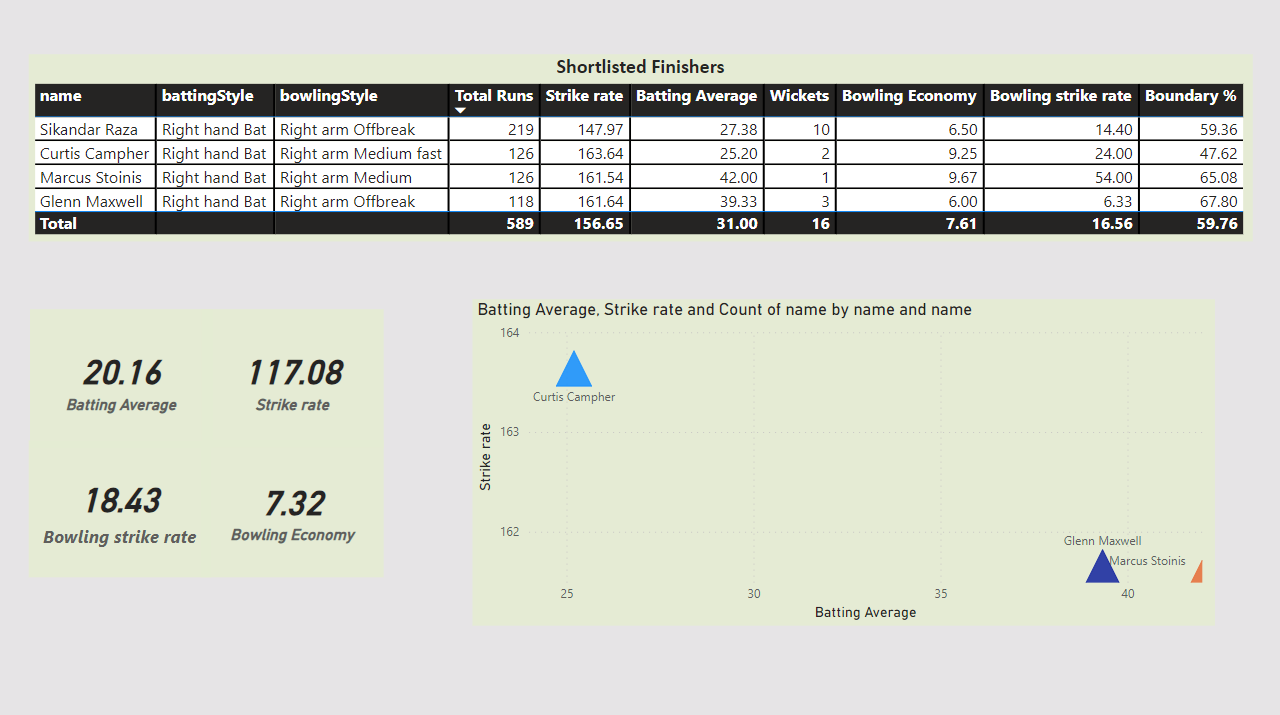

Layout of this report page (visuals, bound fields, positions):
{"tool":"powerbi","page":{"name":"Finisher","canvas":[1280,720],"ordinal":2},"visuals":[{"type":"tableEx","title":"Shortlisted Finishers","fields":{"Values":["a_dim_players_summary.name","a_dim_players_summary.battingStyle","a_dim_players_summary.bowlingStyle","Key_Measure.Total Runs","Key_Measure.Strike rate","Key_Measure.Batting Average","Key_Measure.Wickets","Key_Measure.Bowling Economy","Key_Measure.Bowling strike rate","Key_Measure.Boundary %"]},"box":[29.3,56.2,1223.6,187],"z":0},{"type":"card","fields":{"Values":["Key_Measure.Batting Average"]},"box":[30.6,311.7,182.1,138.1],"z":1000},{"type":"card","fields":{"Values":["Key_Measure.Bowling Economy"]},"box":[201.7,442.5,182.1,136.9],"z":2000},{"type":"card","fields":{"Values":["Key_Measure.Bowling strike rate"]},"box":[29.3,442.5,182.1,136.9],"z":3000},{"type":"card","fields":{"Values":["Key_Measure.Strike rate"]},"box":[201.7,311.7,182.1,138.1],"z":4000},{"type":"scatterChart","fields":{"X":["Key_Measure.Batting Average"],"Y":["Key_Measure.Strike rate"],"Category":["a_dim_players_summary.name"],"Series":["a_dim_players_summary.name"],"Size":["a_dim_players_summary.name"]},"box":[473.1,300.7,742,326.4],"z":5000}]}

Visuals, with their boxes in screenshot pixels (x1, y1, x2, y2), scaled from the page's 1280x720 canvas onto the 1280x715 screenshot:
"Shortlisted Finishers" tableEx: detection(29, 56, 1253, 242)
card - Key_Measure.Batting Average: detection(31, 310, 213, 447)
card - Key_Measure.Bowling Economy: detection(202, 439, 384, 575)
card - Key_Measure.Bowling strike rate: detection(29, 439, 211, 575)
card - Key_Measure.Strike rate: detection(202, 310, 384, 447)
scatterChart - Key_Measure.Batting Average x Key_Measure.Strike rate: detection(473, 299, 1215, 623)
